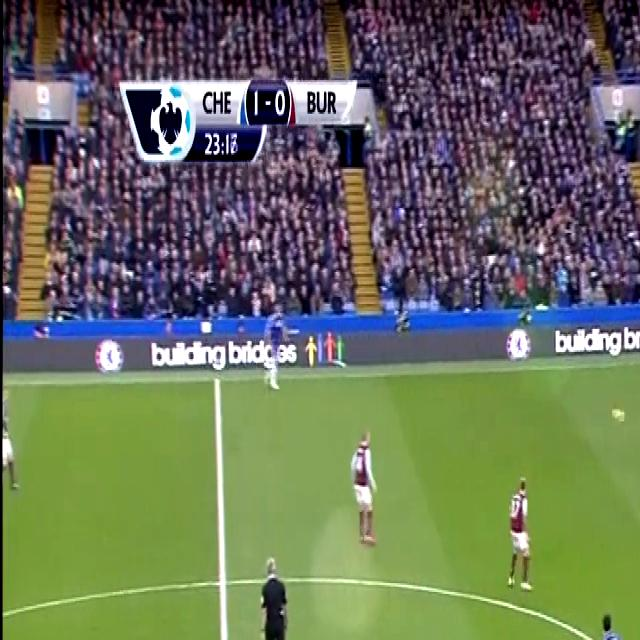ball: (610, 398, 627, 431)
referee: (255, 540, 294, 640)
soccer-player: (342, 421, 382, 552), (504, 466, 540, 600), (1, 388, 22, 502), (263, 296, 286, 386), (586, 599, 635, 640)
